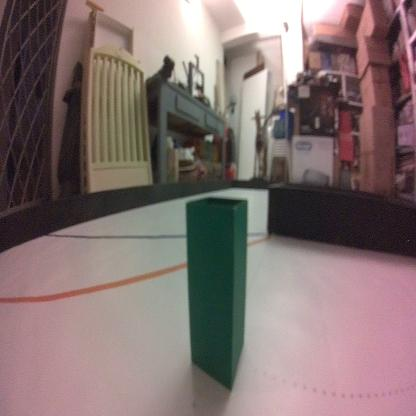green: (184, 193, 251, 392)
